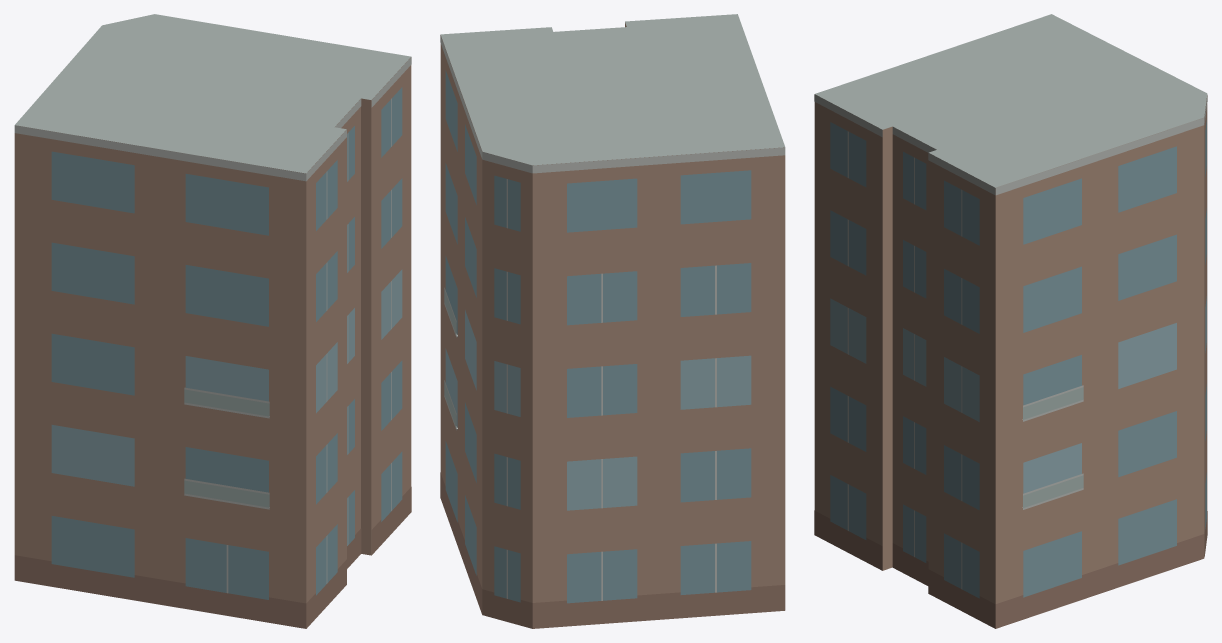
The model's file is survey-upis-32724179.glb.
3 views of the same model, side by side, from view 1: azimuth 30°, elevation 25°; view 2: azimuth 150°, elevation 25°; view 3: azimuth 270°, elevation 25° (orthographic). The views are drawn at different scales.
Visible parts, largest first — view 1: survey-upis-32724179.tmp; view 2: survey-upis-32724179.tmp; view 3: survey-upis-32724179.tmp.
Part boxes in pixels (x1,y1,x2,y2): survey-upis-32724179.tmp: [14, 14, 411, 628]; survey-upis-32724179.tmp: [440, 14, 785, 628]; survey-upis-32724179.tmp: [814, 14, 1207, 628].
Size of the model in its own units: 11.93 by 14.1 by 11.4.
